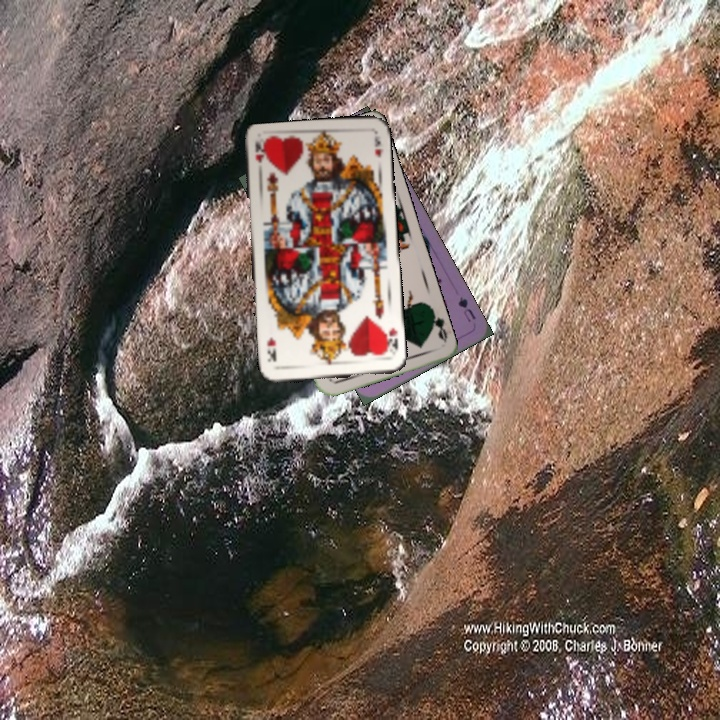GO: (427, 305, 450, 344)
GU: (454, 293, 478, 325)
HK: (380, 323, 401, 356), (251, 138, 266, 165)
